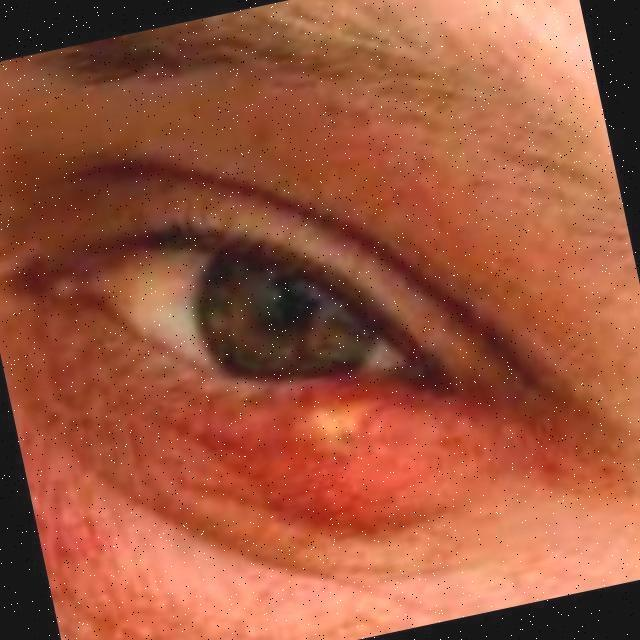Stye: (170, 352, 494, 562)
